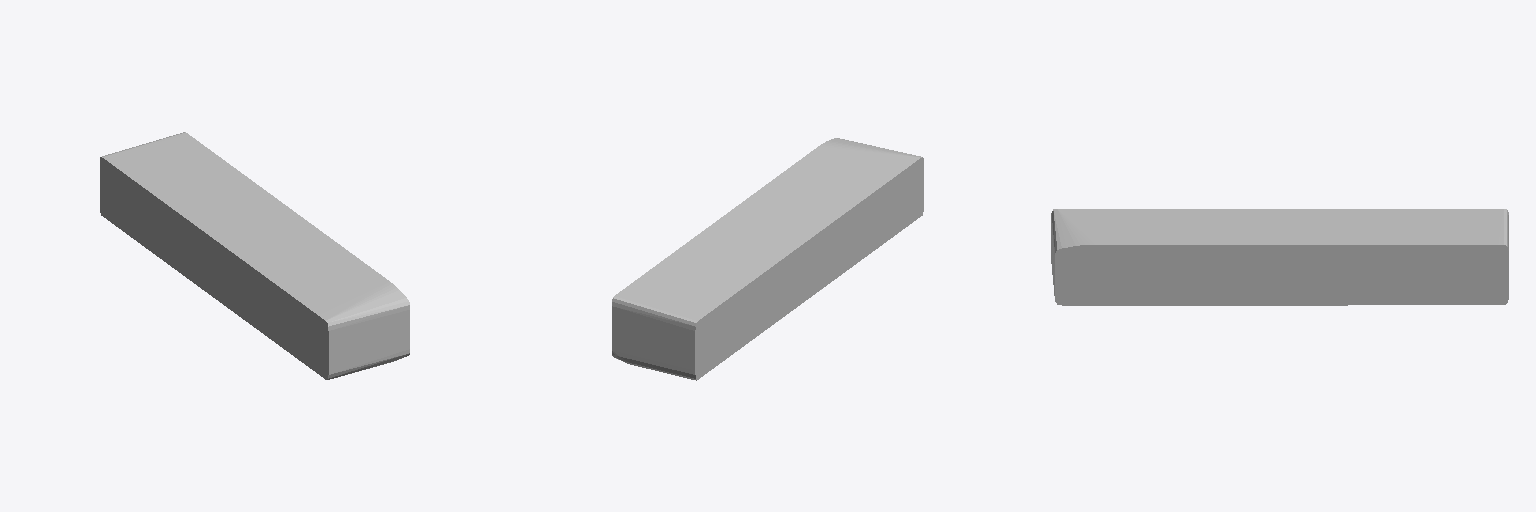
Rendered from Carbon_Mov_Finger_021_v1_1_mesh_collision_0.obj.
3 views of the same model, side by side, from view 1: azimuth 30°, elevation 25°; view 2: azimuth 150°, elevation 25°; view 3: azimuth 270°, elevation 25° (orthographic).
Bounding box in the file's own units: 0.0049 × 0.0035 × 0.0231.